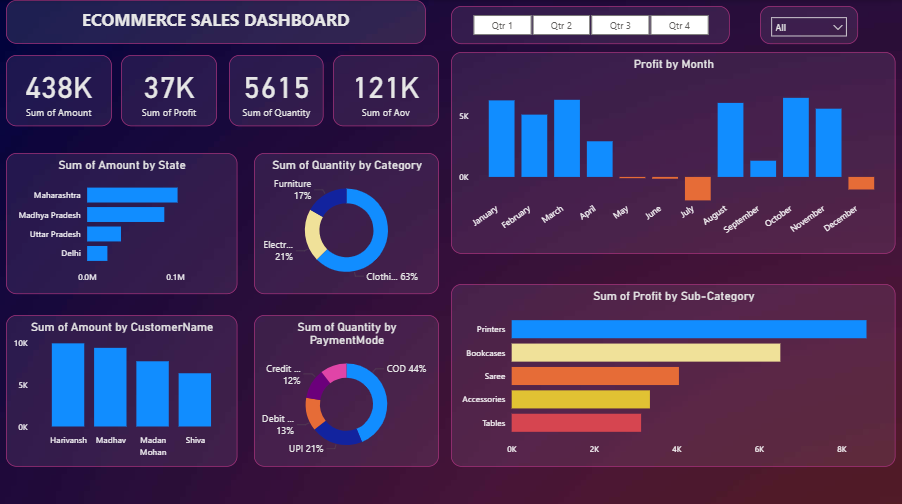

This screenshot's page, from the dashboard's own definition file:
{"tool":"powerbi","page":{"name":"Page 1","canvas":[1280,720],"ordinal":0},"visuals":[{"type":"textbox","box":[10.1,0,594.6,62.2],"z":0},{"type":"columnChart","title":"Profit by Month","fields":{"Category":["Orders.Order Date.Variation.Date Hierarchy.Month"],"Y":["Sum(Details.Profit)"]},"box":[640,73.9,629.9,285.6],"z":1000},{"type":"barChart","fields":{"Category":["Details.Sub-Category"],"Y":["Sum(Details.Profit)"]},"box":[640,403.1,629.9,258.7],"z":2000},{"type":"donutChart","fields":{"Y":["Sum(Details.Quantity)"],"Category":["Details.PaymentMode"]},"box":[361.2,446.8,262,215],"z":3000},{"type":"donutChart","fields":{"Category":["Details.Category"],"Y":["Sum(Details.Quantity)"]},"box":[361.2,216.7,262,199.9],"z":4000},{"type":"card","fields":{"Values":["Sum(Details.Profit)"]},"box":[173,77.3,136.1,100.8],"z":5000},{"type":"card","fields":{"Values":["Sum(Details.Amount)"]},"box":[10.1,77.3,149.5,100.8],"z":6000},{"type":"card","fields":{"Values":["Sum(Details.Quantity)"]},"box":[325.9,77.3,134.4,100.8],"z":7000},{"type":"card","fields":{"Values":["Sum(Details.Aov)"]},"box":[473.7,77.3,149.5,100.8],"z":8000},{"type":"barChart","fields":{"Category":["Orders.State"],"Y":["Sum(Details.Amount)"]},"box":[10.1,216.7,327.6,199.9],"z":9000},{"type":"columnChart","fields":{"Category":["Orders.CustomerName"],"Y":["Sum(Details.Amount)"]},"box":[10.1,446.8,327.6,215],"z":10000},{"type":"slicer","fields":{"Values":["Orders.Order Date.Variation.Date Hierarchy.Quarter"]},"box":[640,8.4,394.8,53.8],"z":11000},{"type":"slicer","fields":{"Values":["Orders.State"]},"box":[1078.4,8.4,139.4,53.8],"z":12000}]}

Visuals, with their boxes in screenshot pixels (x1, y1, x2, y2), scaled from the page's 1280x720 canvas onto the 902x504 screenshot:
textbox: select_region(7, 0, 426, 44)
"Profit by Month" columnChart: select_region(451, 52, 895, 252)
barChart - Details.Sub-Category x Sum(Details.Profit): select_region(451, 282, 895, 463)
donutChart - Sum(Details.Quantity) x Details.PaymentMode: select_region(255, 313, 439, 463)
donutChart - Details.Category x Sum(Details.Quantity): select_region(255, 152, 439, 292)
card - Sum(Details.Profit): select_region(122, 54, 218, 125)
card - Sum(Details.Amount): select_region(7, 54, 112, 125)
card - Sum(Details.Quantity): select_region(230, 54, 324, 125)
card - Sum(Details.Aov): select_region(334, 54, 439, 125)
barChart - Orders.State x Sum(Details.Amount): select_region(7, 152, 238, 292)
columnChart - Orders.CustomerName x Sum(Details.Amount): select_region(7, 313, 238, 463)
slicer - Orders.Order Date.Variation.Date Hierarchy.Quarter: select_region(451, 6, 729, 44)
slicer - Orders.State: select_region(760, 6, 858, 44)
